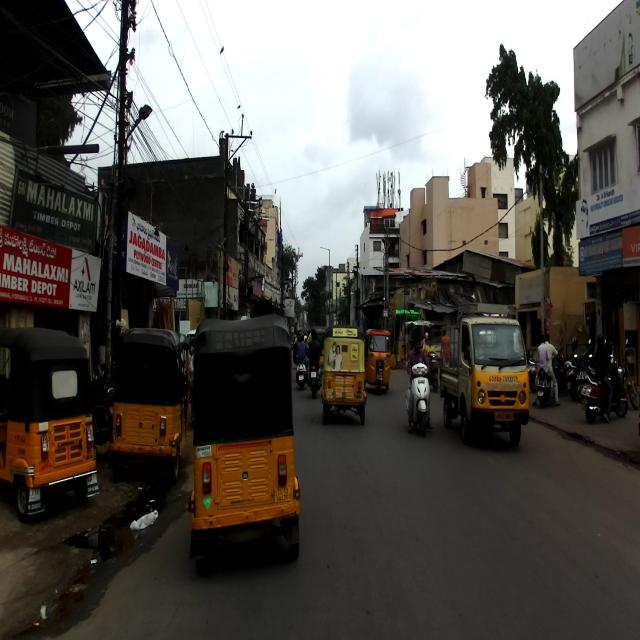autorickshaw: (185, 315, 302, 572), (0, 324, 101, 523), (110, 327, 193, 480)
scooter: (582, 355, 628, 422), (408, 359, 432, 442)
truck: (440, 303, 530, 441)
